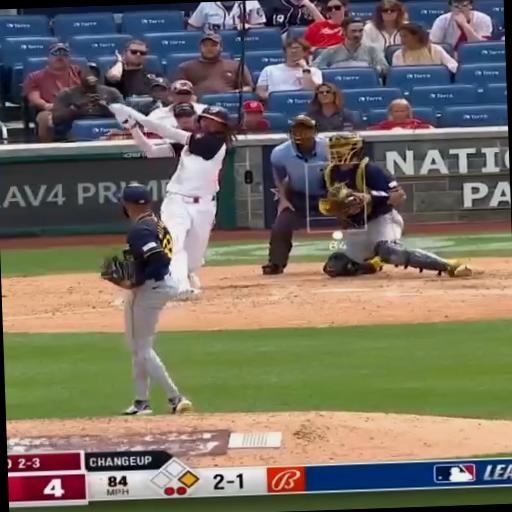bat: (94, 98, 138, 121)
